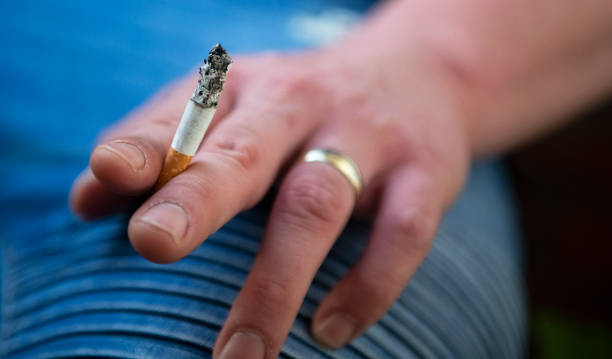cigarette: (157, 46, 235, 187)
